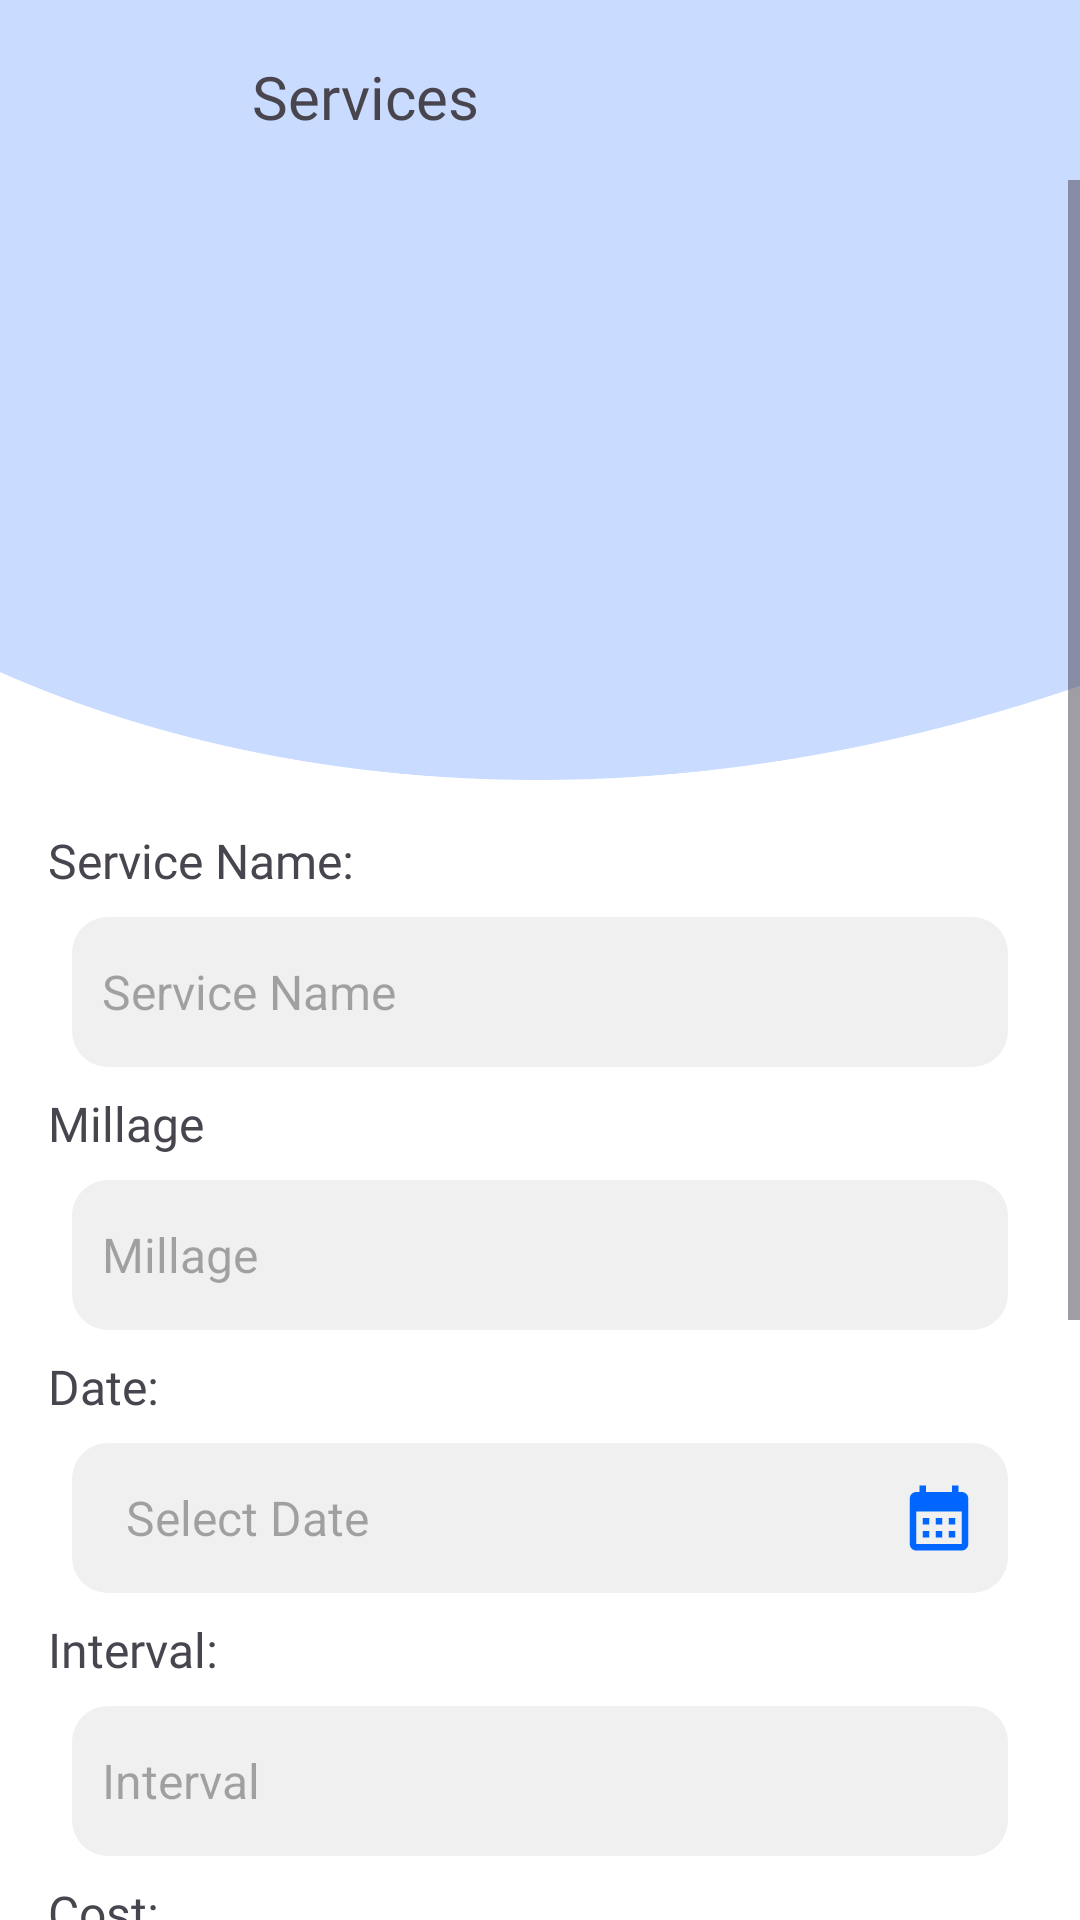

Where icons sit on this 1080px×1920px app screen, as (x1, y1, x2, y2):
calender: (909, 1485, 969, 1551)
